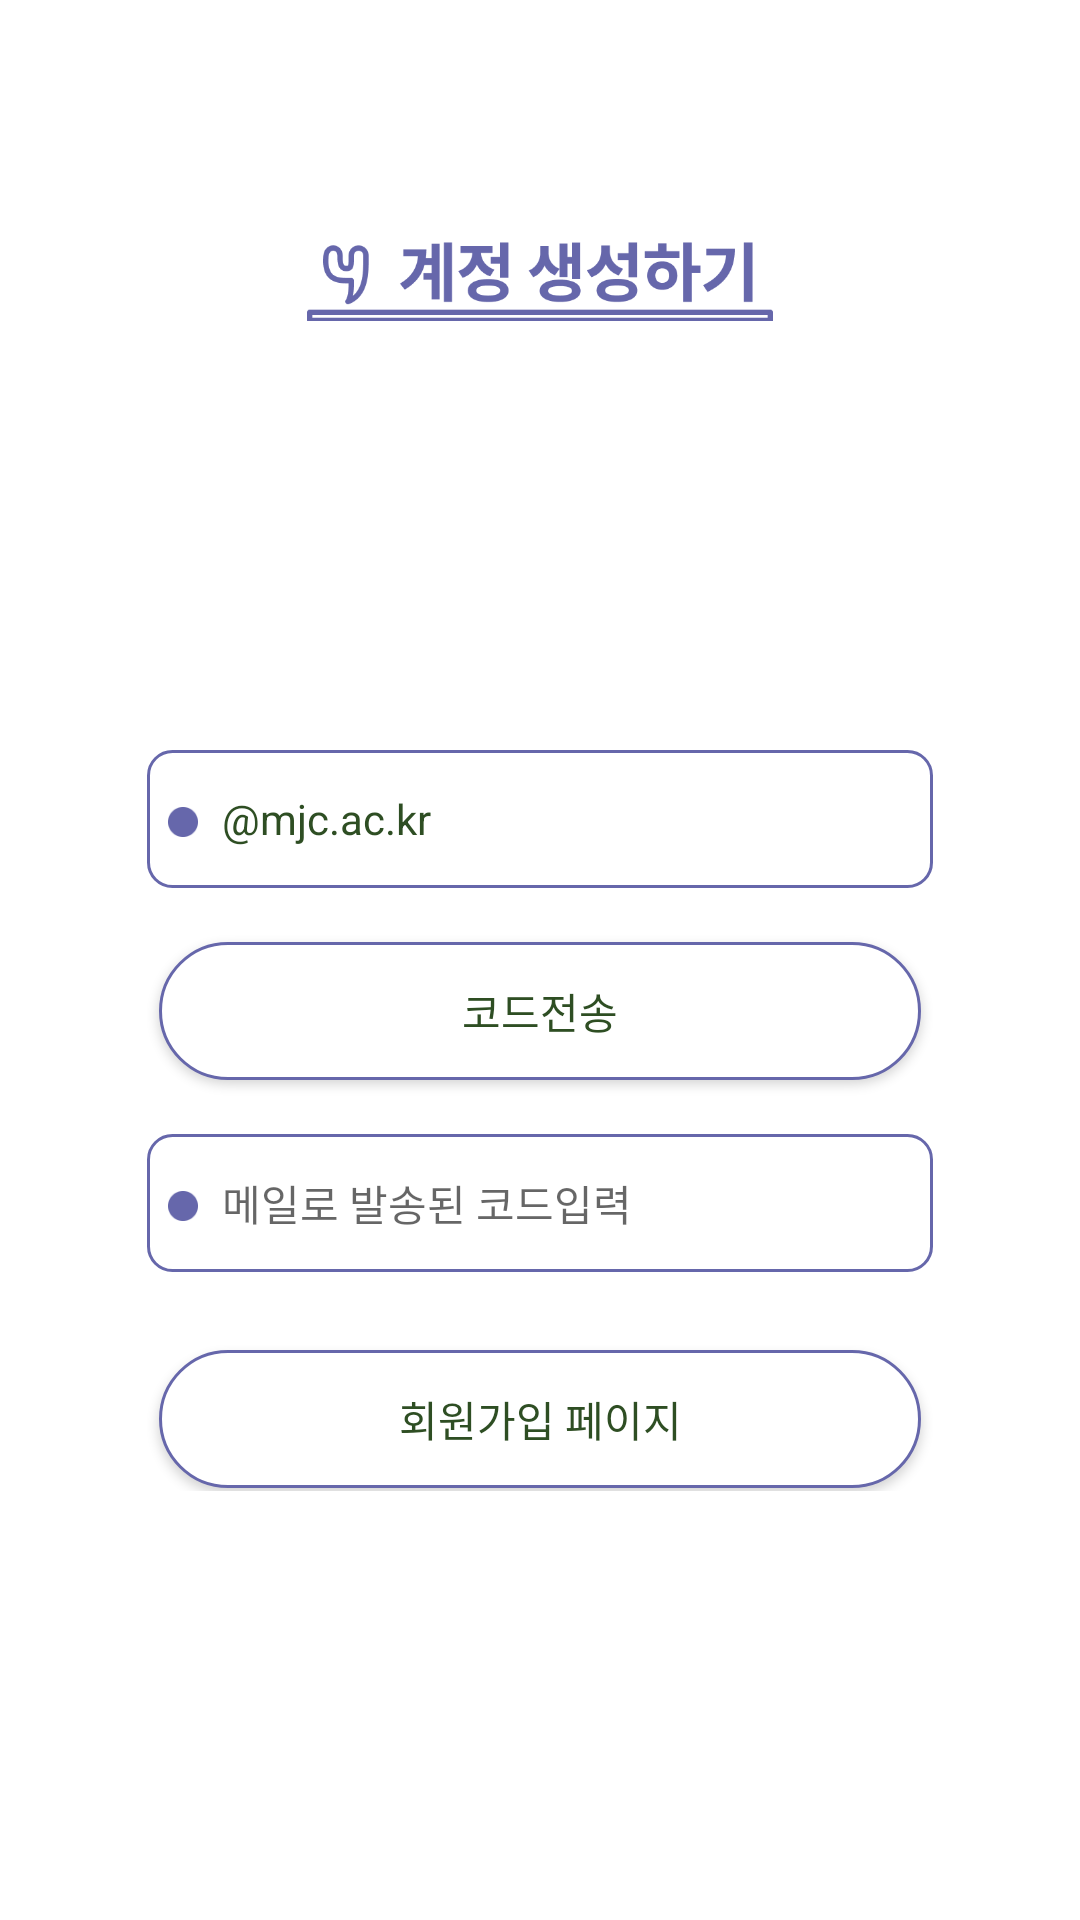

Icons on this 1080w x 1920h Android screen, each with the point to tap as point (x, y):
dot: point (183, 822), point (183, 1206)
